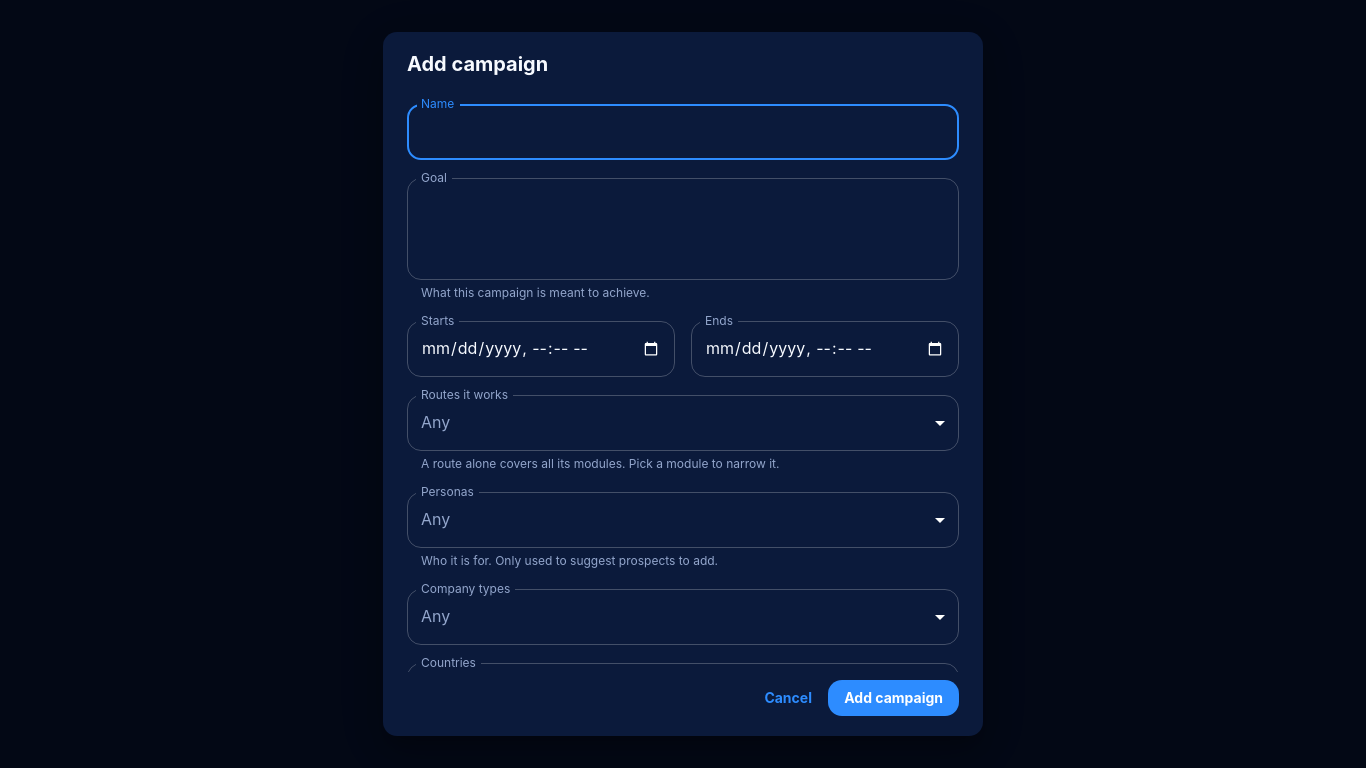
Test case: CampaignForm (adding) › refuses an end before the start before sending anything
Type "x" into the field labelled "Name" at (683, 132), box [407, 104, 959, 160]
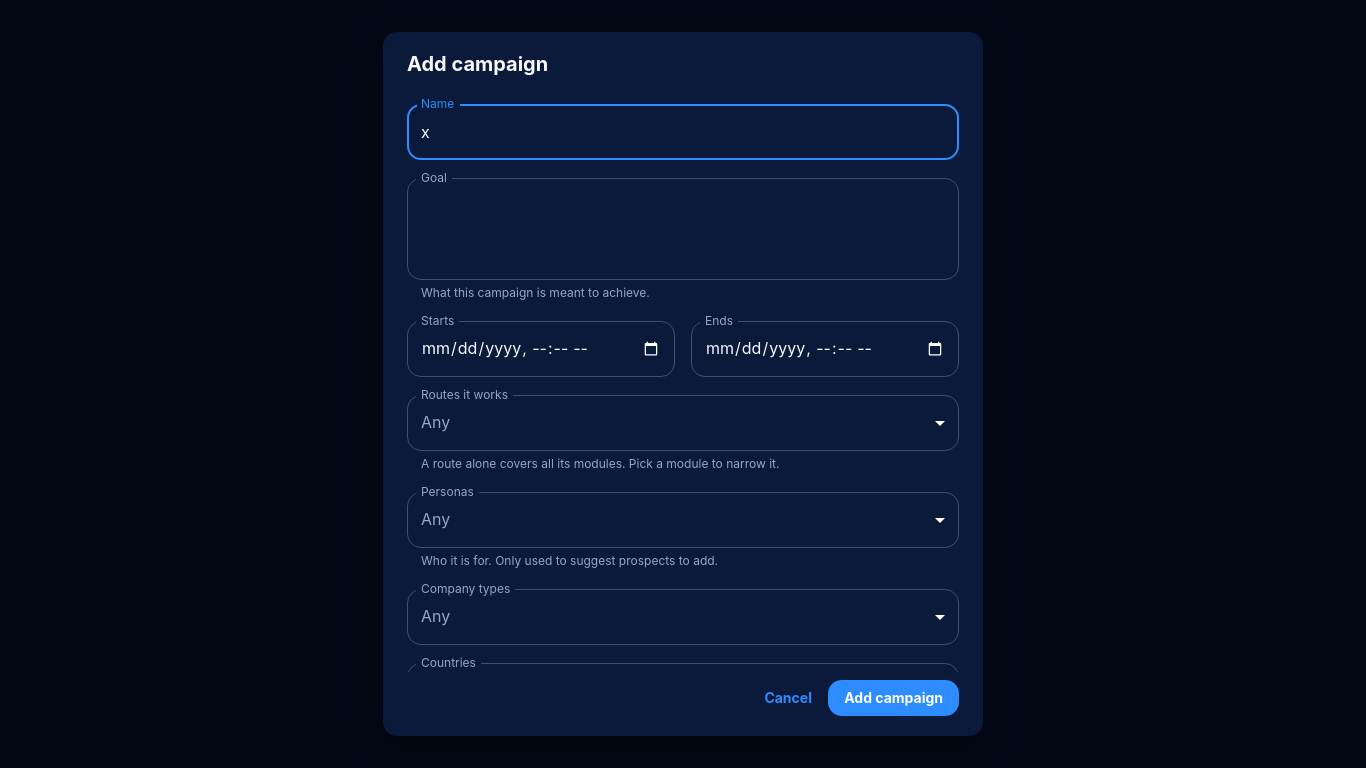
Type "2026-12-01T09:00" into the field labelled "Starts" at (541, 349), box [407, 321, 675, 377]
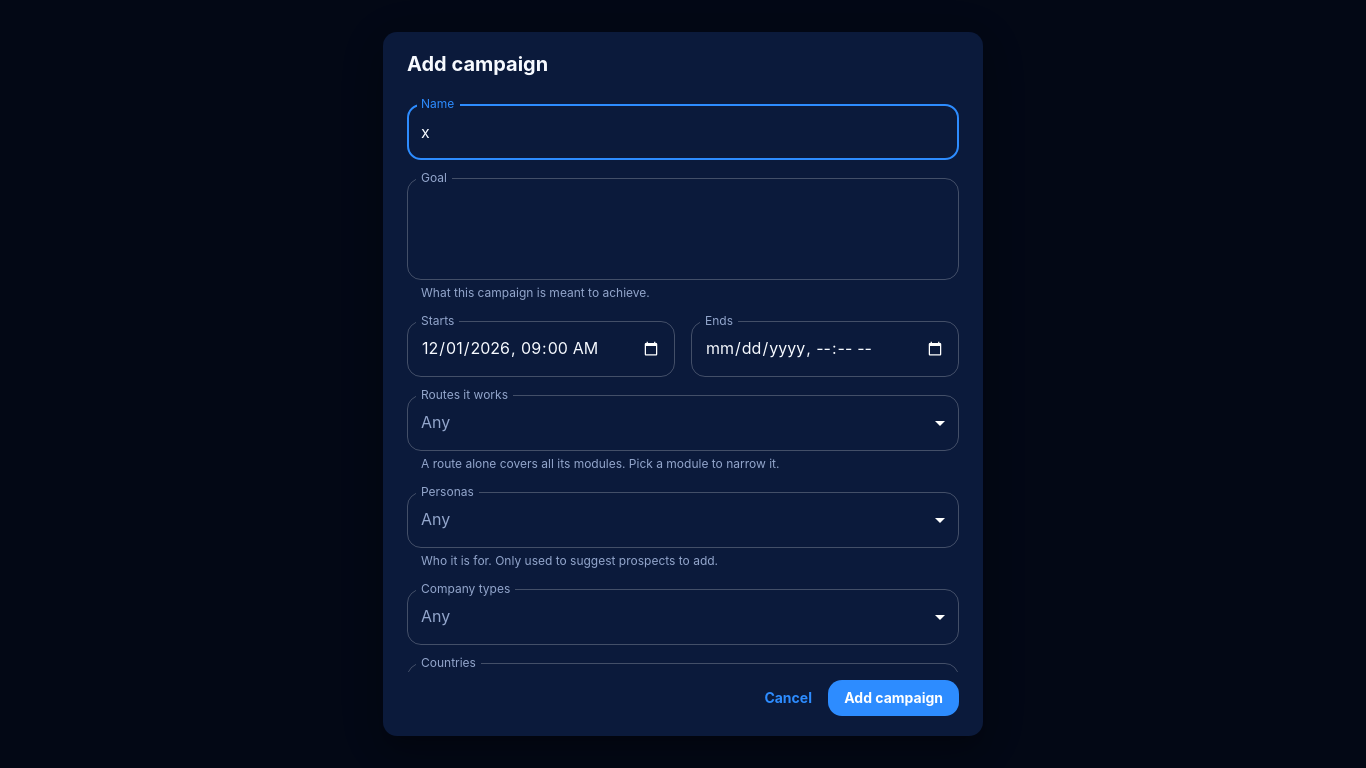
Type "2026-10-01T09:00" into the field labelled "Ends" at (825, 349), box [691, 321, 959, 377]
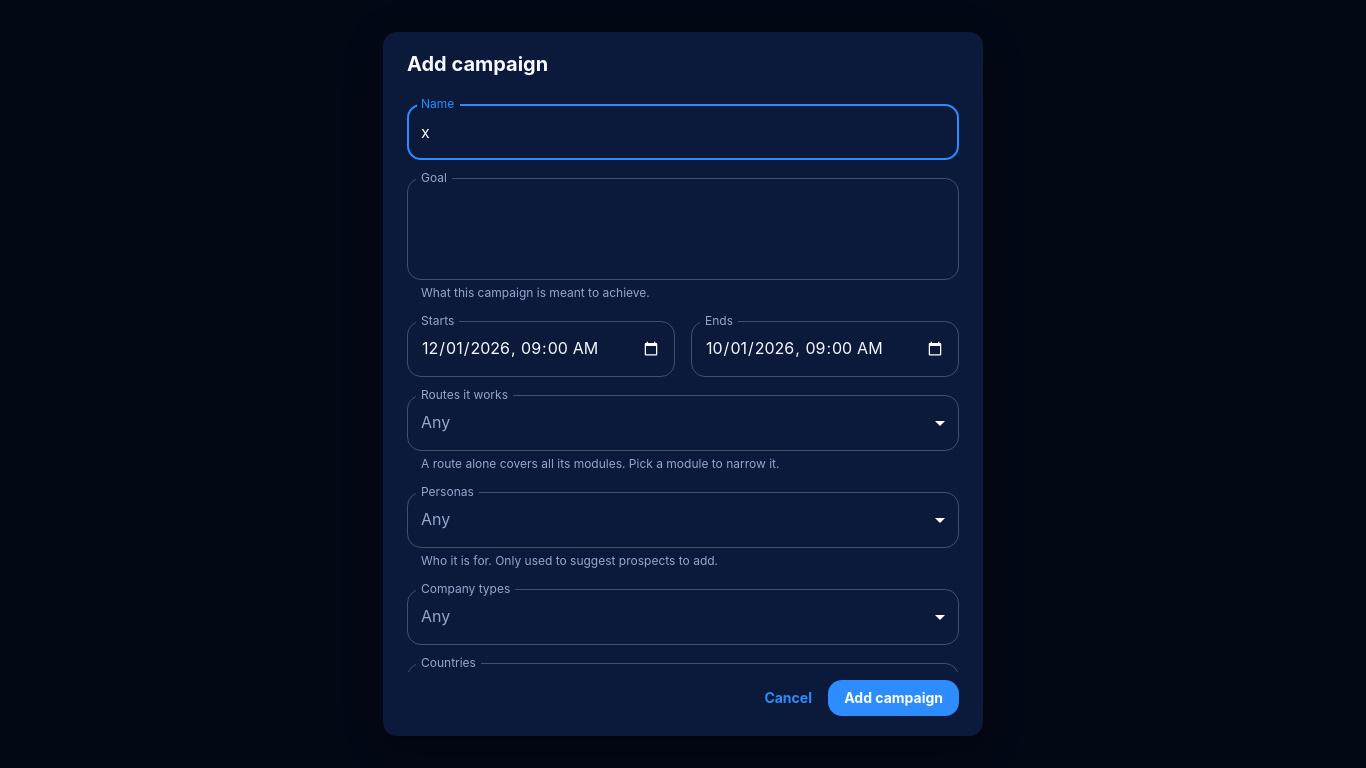
Click the button "Add campaign" at (894, 698), box [828, 680, 959, 716]
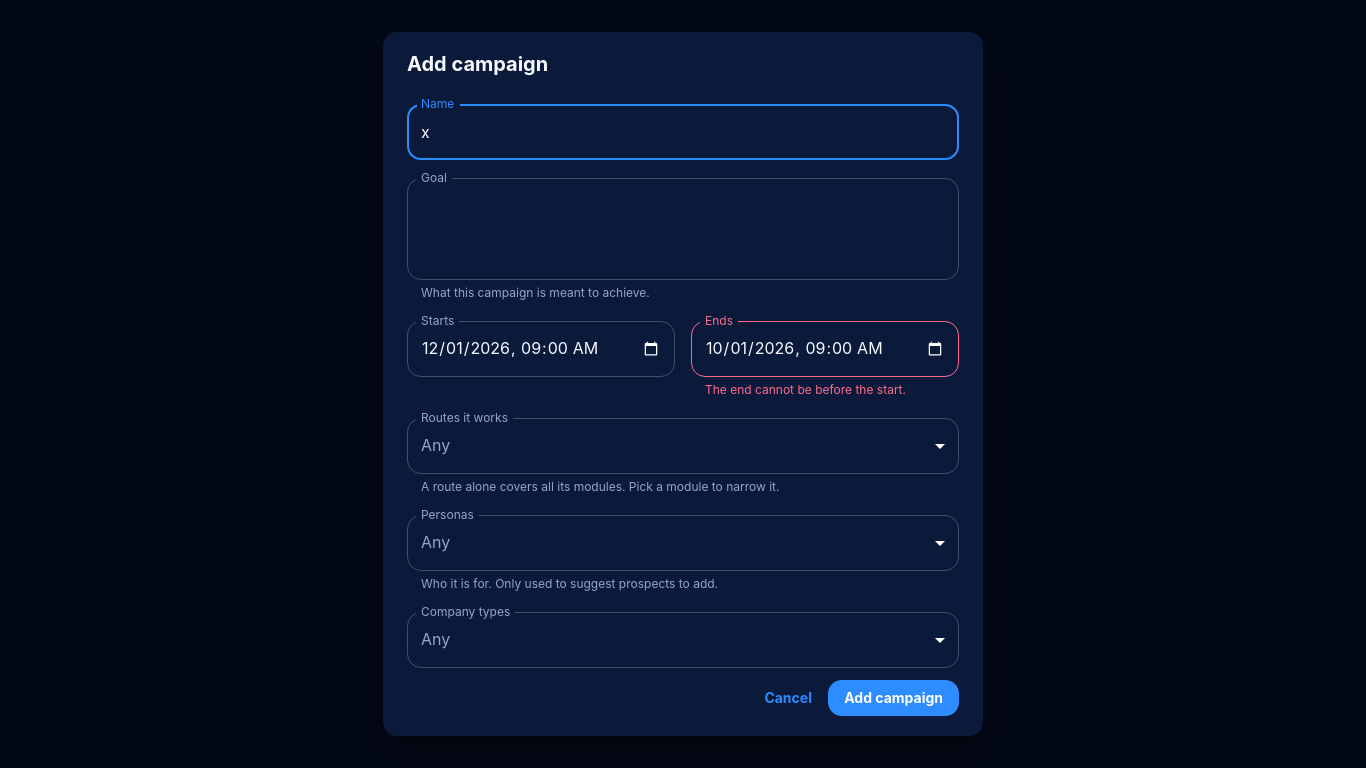
Expected: the text "The end cannot be before the start." is shown, [705, 382, 906, 397]
